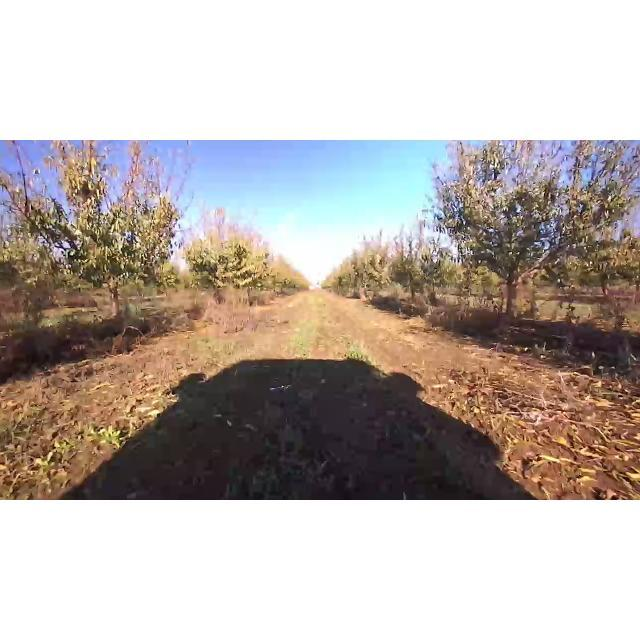direk: (0, 140, 212, 342), (428, 144, 640, 338), (182, 217, 274, 315), (368, 220, 456, 322), (573, 234, 639, 302)
